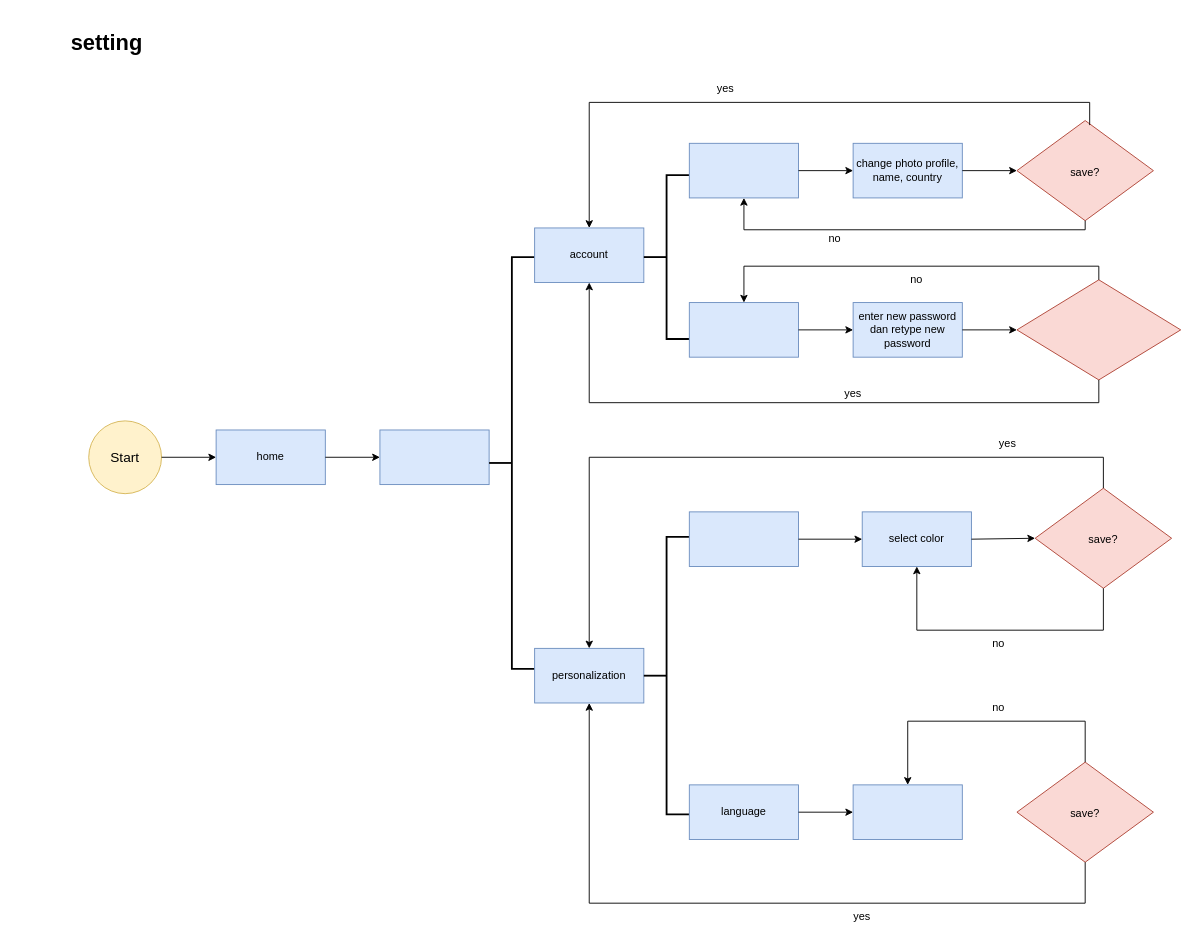
Image size: 1197x946. Some labels were removed from this diagram. The shapes that lost their labels are listed below. From the top down, each one's centre as x and y in pixels, then its label:
At (x=743, y=170): "edit profile".
At (x=743, y=329): "change password".
At (x=1098, y=329): "cek apakah password baru dan lama sama".
At (x=434, y=457): "settings".
At (x=743, y=538): "Theme".
At (x=907, y=811): "select language".
